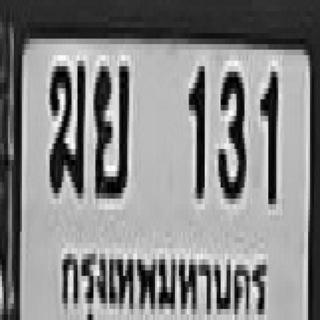A06: (48, 58, 83, 190)
A34: (91, 58, 127, 190)
N01: (258, 66, 276, 199), (187, 58, 203, 190)
N03: (217, 66, 244, 193)
P04: (55, 239, 274, 320)
